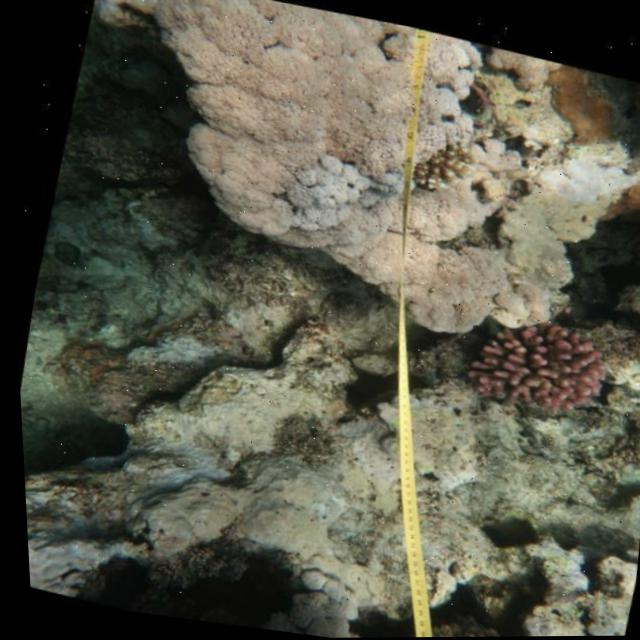Healthy Coral: (446, 293, 627, 425), (503, 48, 630, 152), (588, 155, 640, 262)
